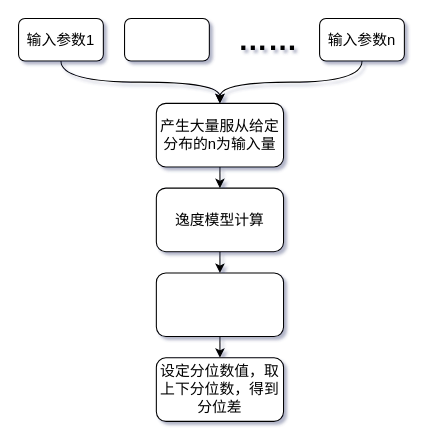
This 429x446 diagram has some shape labels left out. The shapes that lost their labels are listed below. From the top down, each one's centre as x and y in pixels, then its label:
point 166,39: 输入参数2
point 219,304: 排序输出量的n个计算结果
